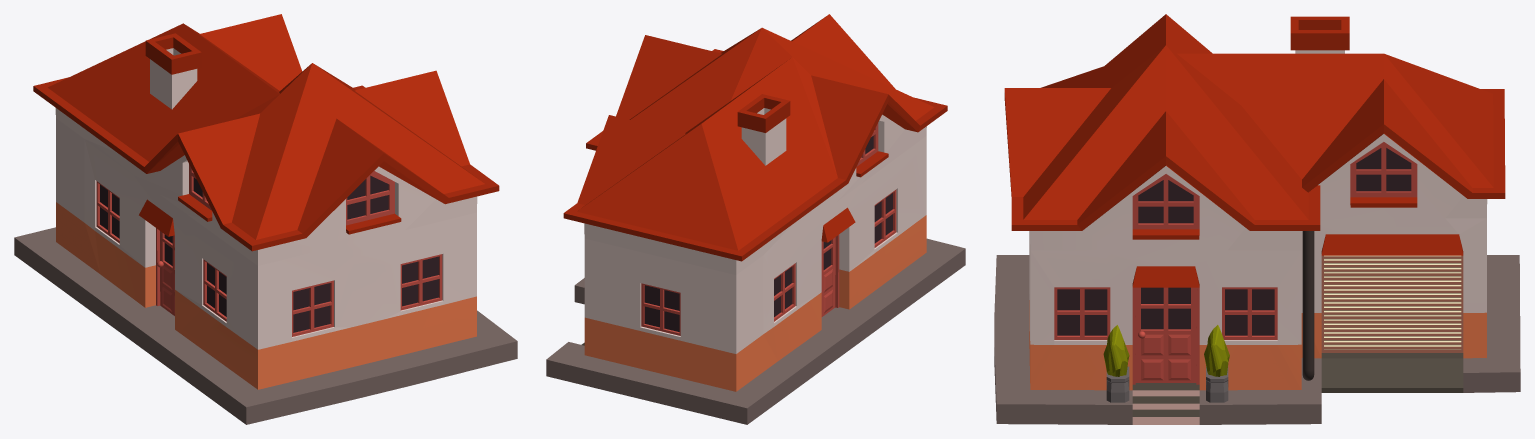
File: house_5.glb
3 views of the same model, side by side, from view 1: azimuth 30°, elevation 25°; view 2: azimuth 150°, elevation 25°; view 3: azimuth 270°, elevation 25° (orthographic). The views are drawn at different scales.
Parts seen in each view (by area): view 1: PublicBuilding_7; view 2: PublicBuilding_7; view 3: PublicBuilding_7.
Part boxes in pixels (x1,y1,x2,y2): PublicBuilding_7: (14, 14, 517, 424); PublicBuilding_7: (546, 14, 965, 424); PublicBuilding_7: (994, 14, 1520, 424).
Bounding box in the file's own units: 3.24 × 3.09 × 4.79.
1 material, 1 textured.
